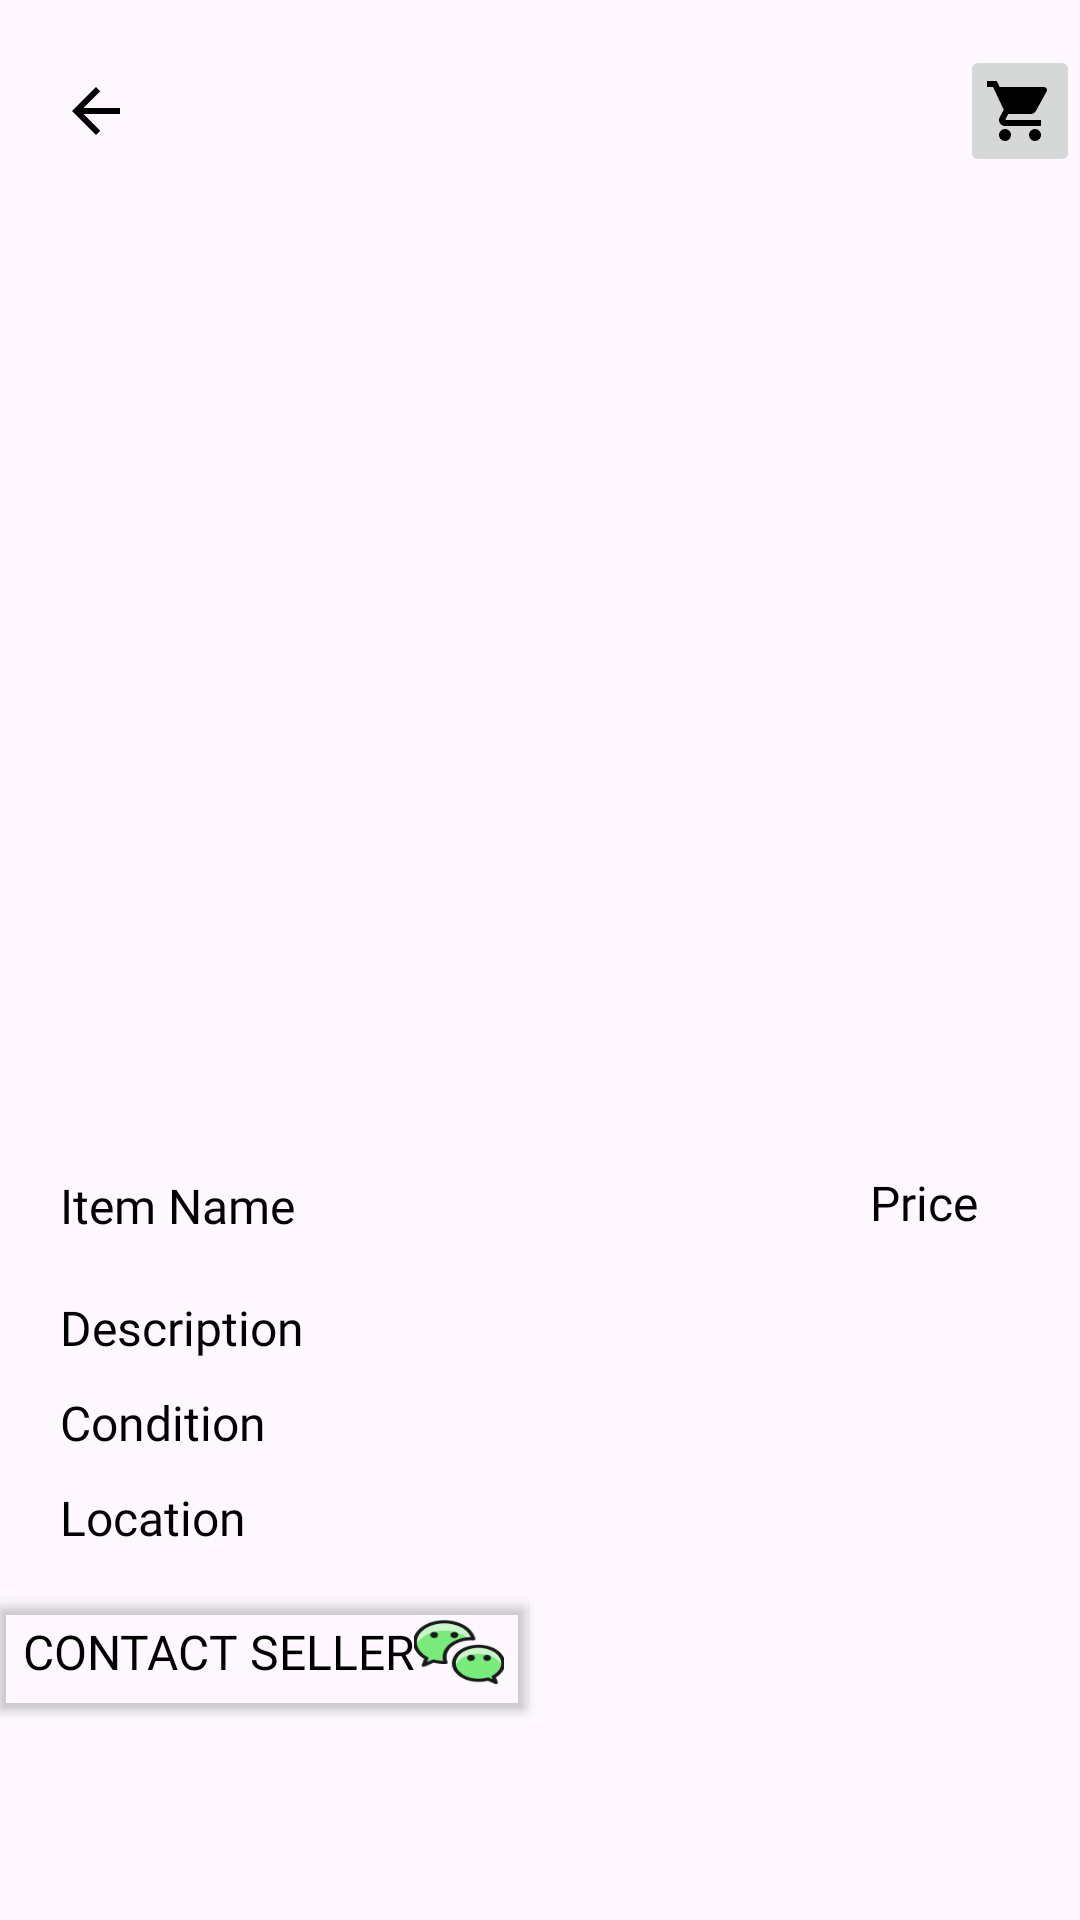

Point at icon controls on the screen. Image size 1080px×1920px, points as (x=x, y=y).
arrow back: (x=96, y=111)
shopping cart: (x=1020, y=111)
